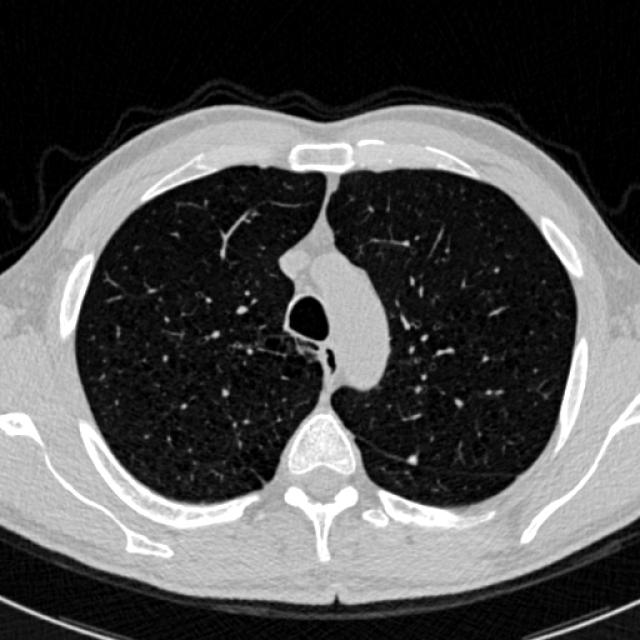nodule: (400, 446, 425, 472)
